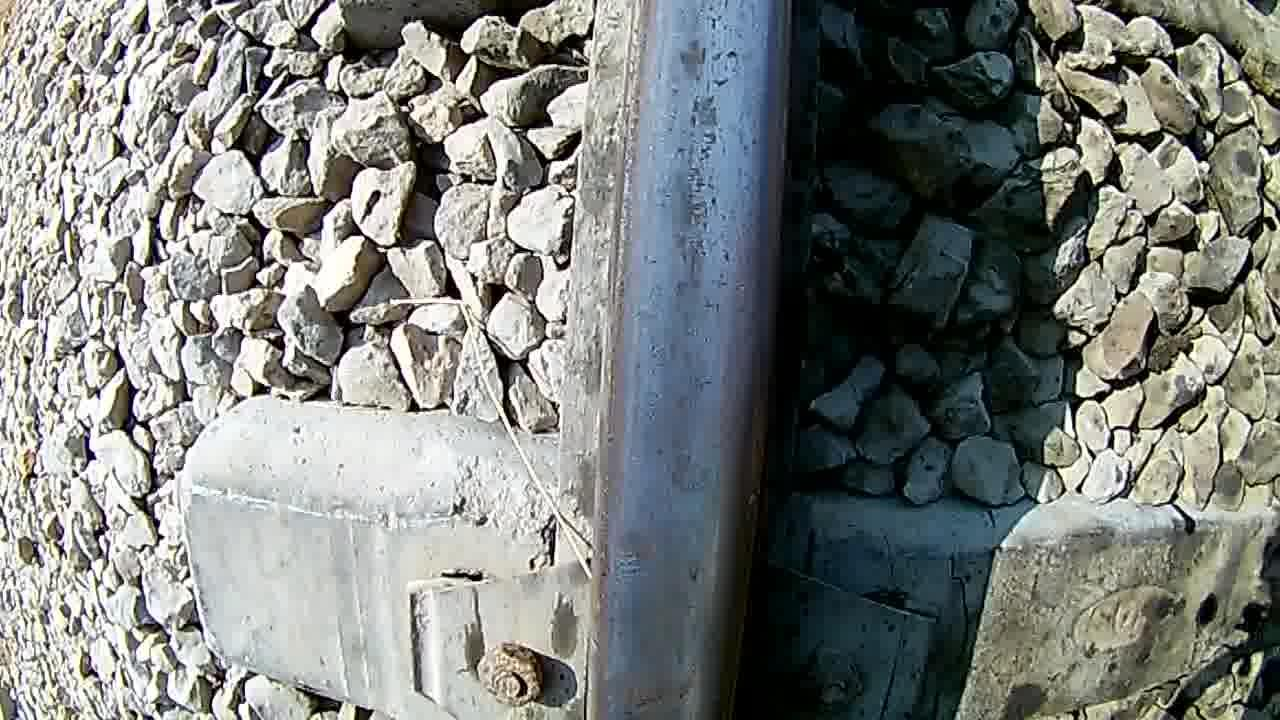crack: (587, 4, 792, 720)
